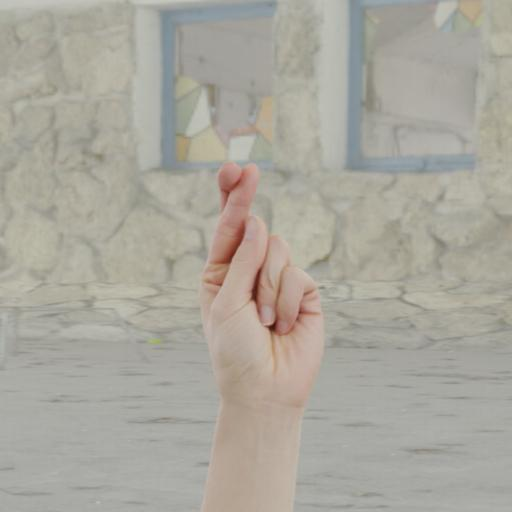R: (197, 157, 327, 415)
